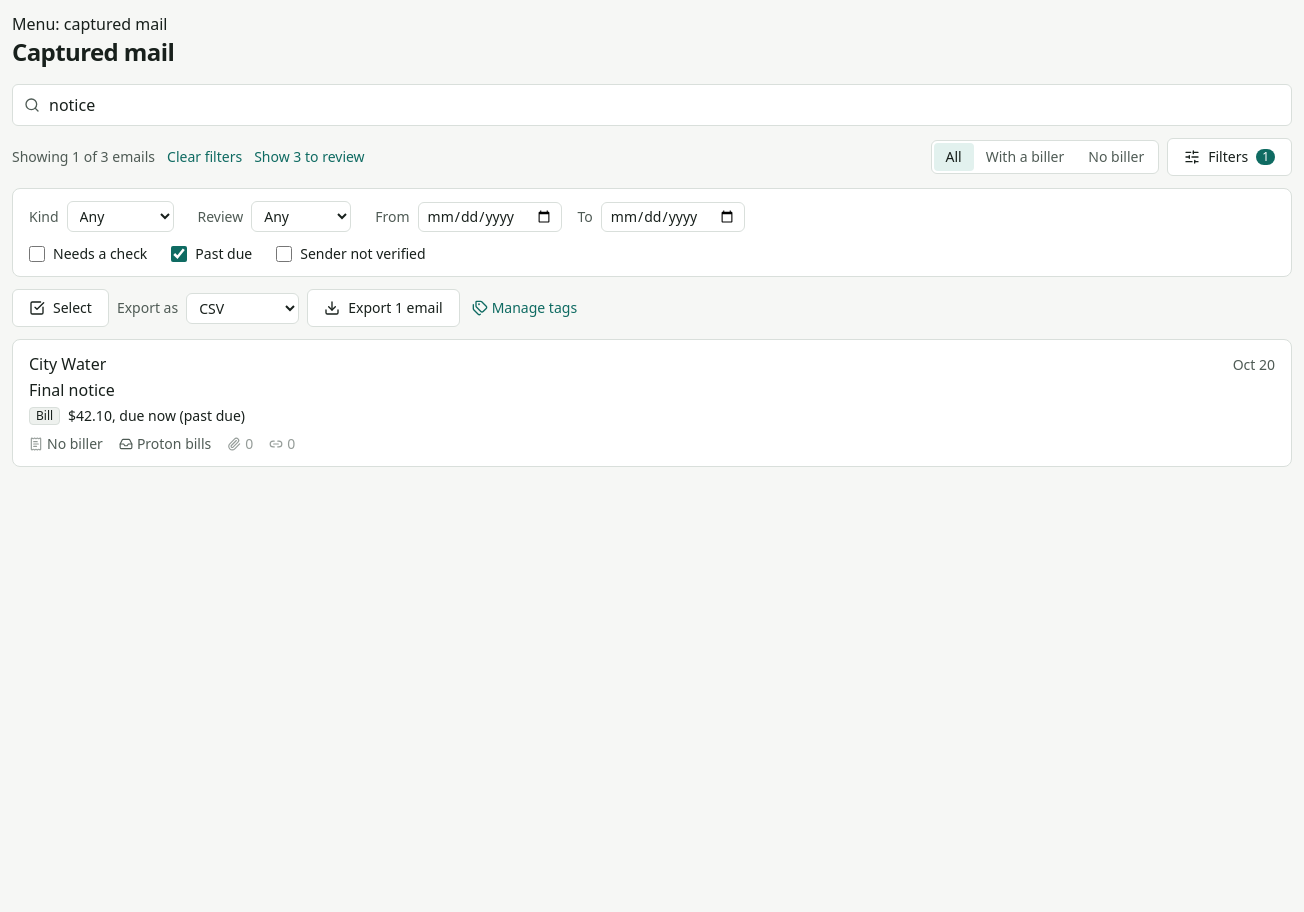
Scenario: the captured-mail list's filters › shows the whole list again when the menu opens it while it is filtered
The width and height of the screenshot is (1304, 912).
Check: the text "Final notice" is shown, box [29, 379, 115, 401]
Replace the text in the search field named "Search captured mail" with "final" at {"x": 652, "y": 105}, box [12, 84, 1292, 126]
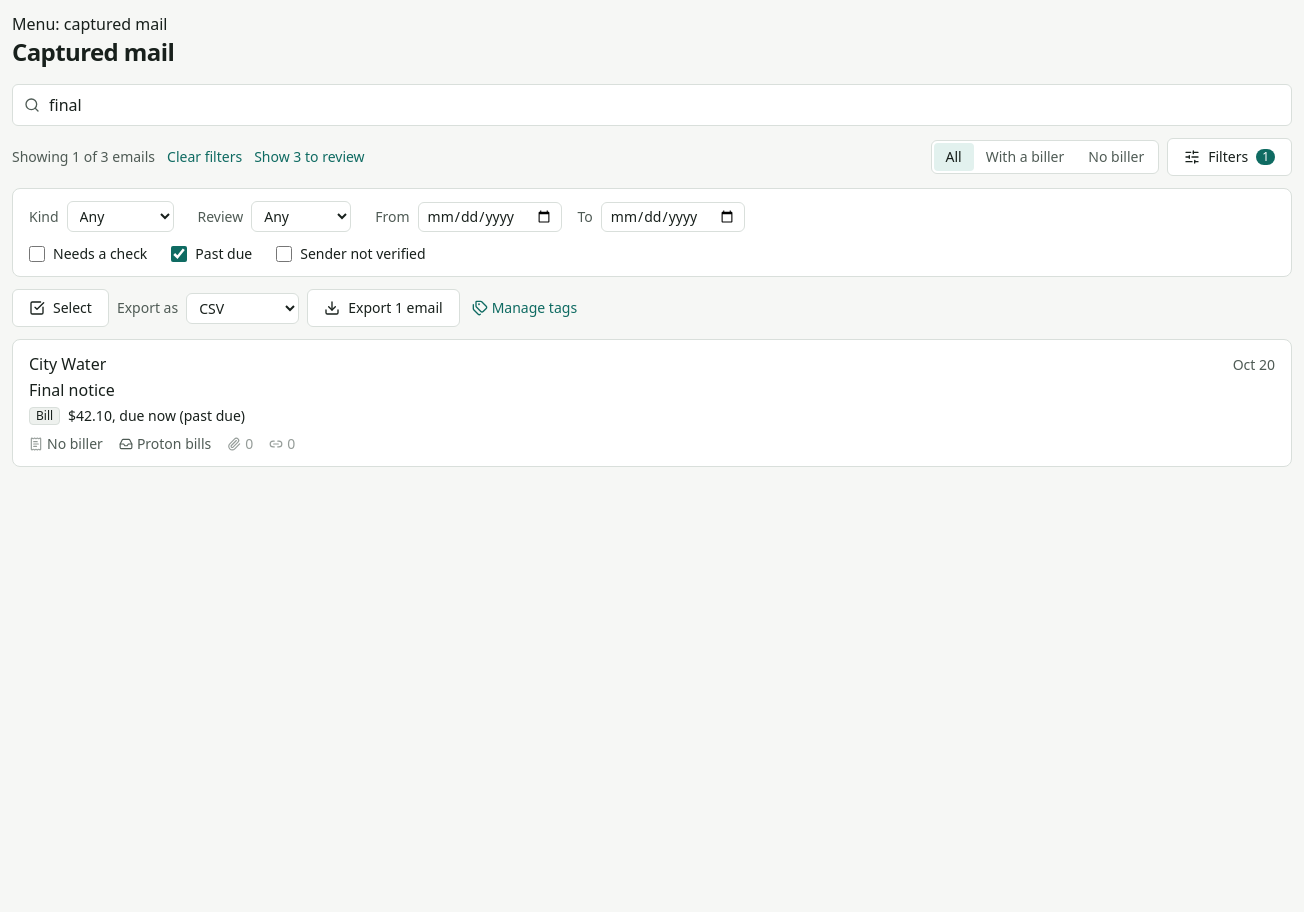
Click the link "Menu: captured mail" at {"x": 90, "y": 24}, box [12, 13, 167, 35]
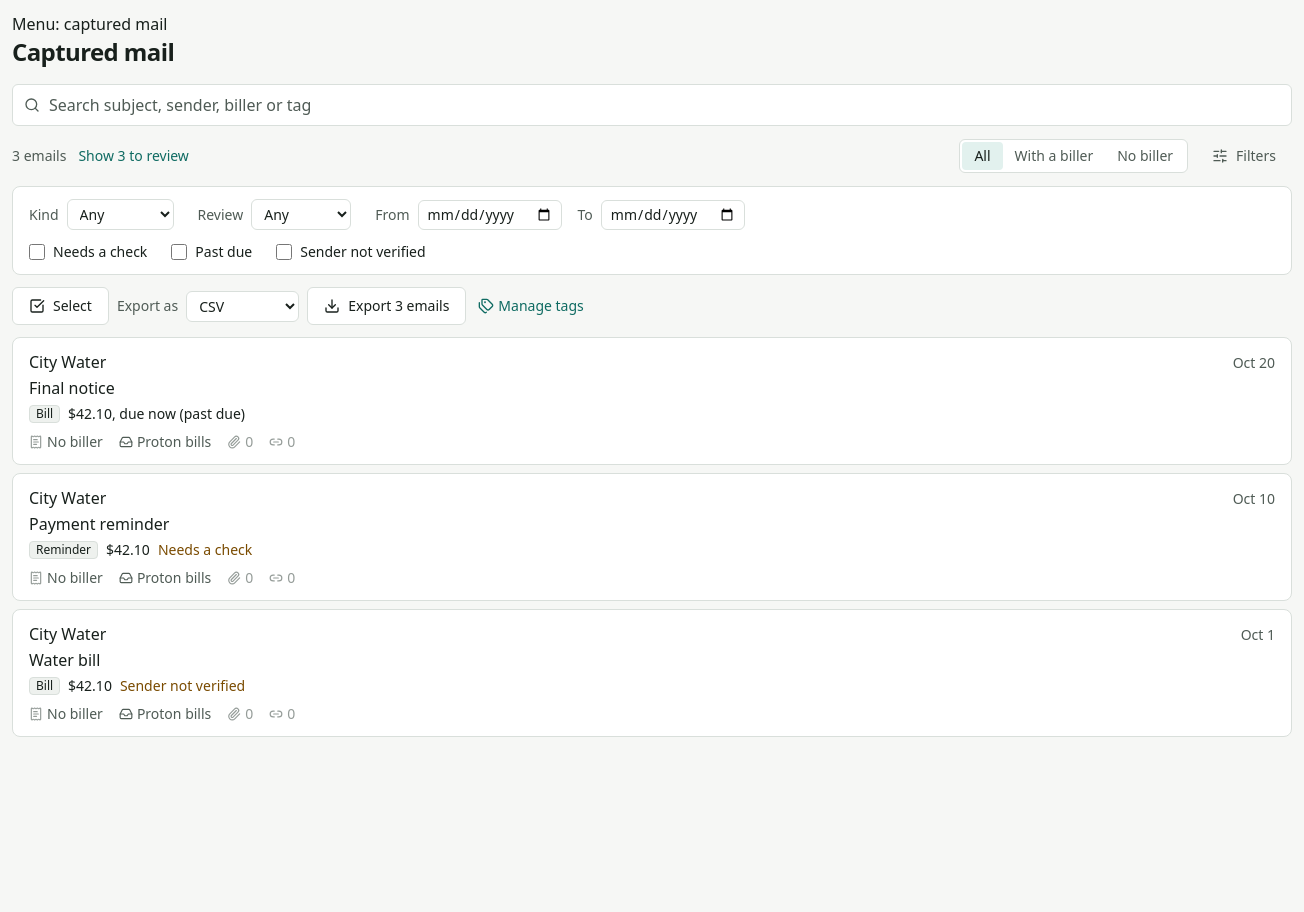
Check: the text "Water bill" is shown, box [29, 649, 100, 671]
Check: the search field named "Search captured mail" is empty, box [12, 84, 1292, 126]
Check: the checkbox labelled "Past due" is not checked, box [171, 244, 187, 260]
